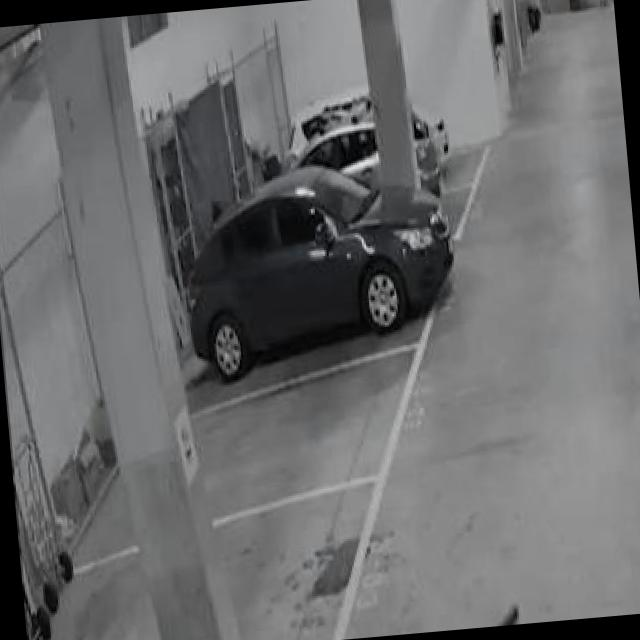Guns: (480, 586, 521, 627)
